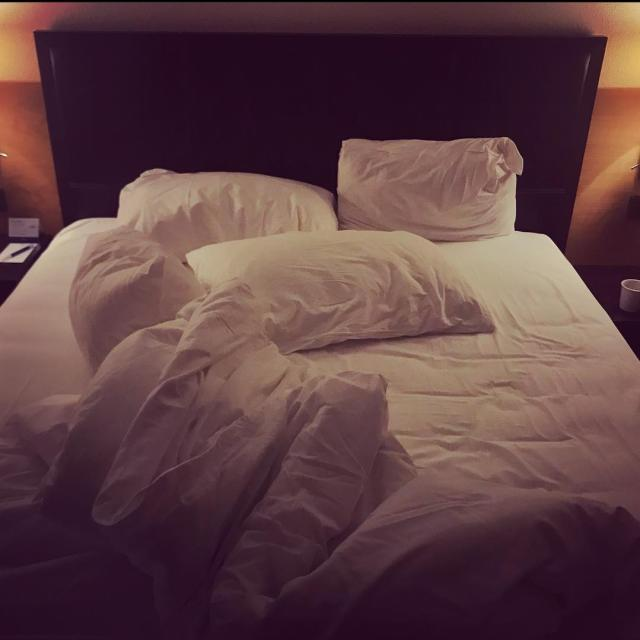bed: (13, 77, 640, 639)
